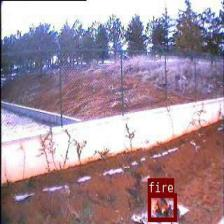fire: (147, 193, 176, 221)
